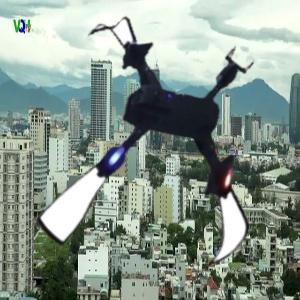drone: (25, 19, 298, 292)
